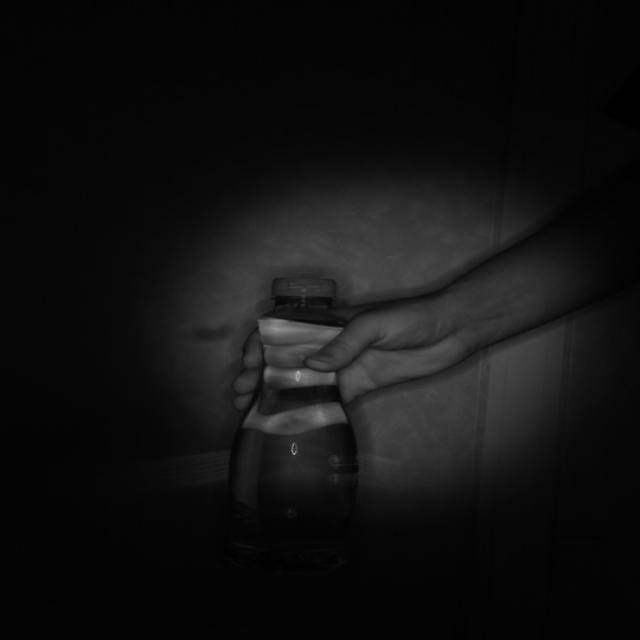Good: (268, 275, 338, 298)
